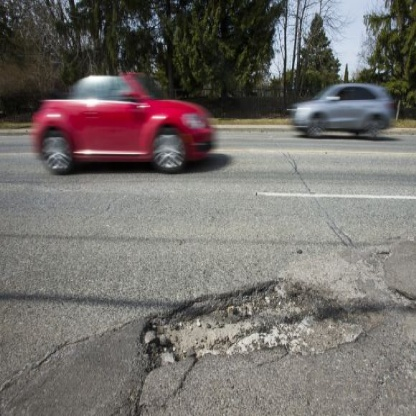pothole: (132, 268, 403, 369)
